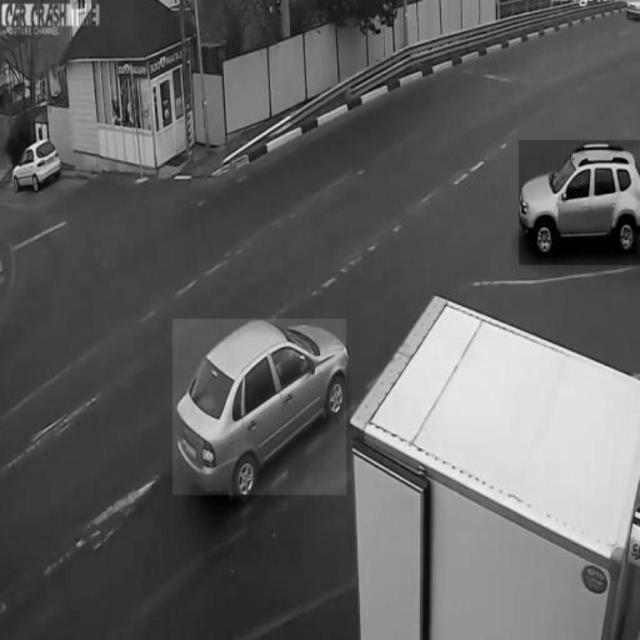vehicle: (173, 319, 347, 495), (519, 140, 640, 266), (13, 136, 63, 193)
